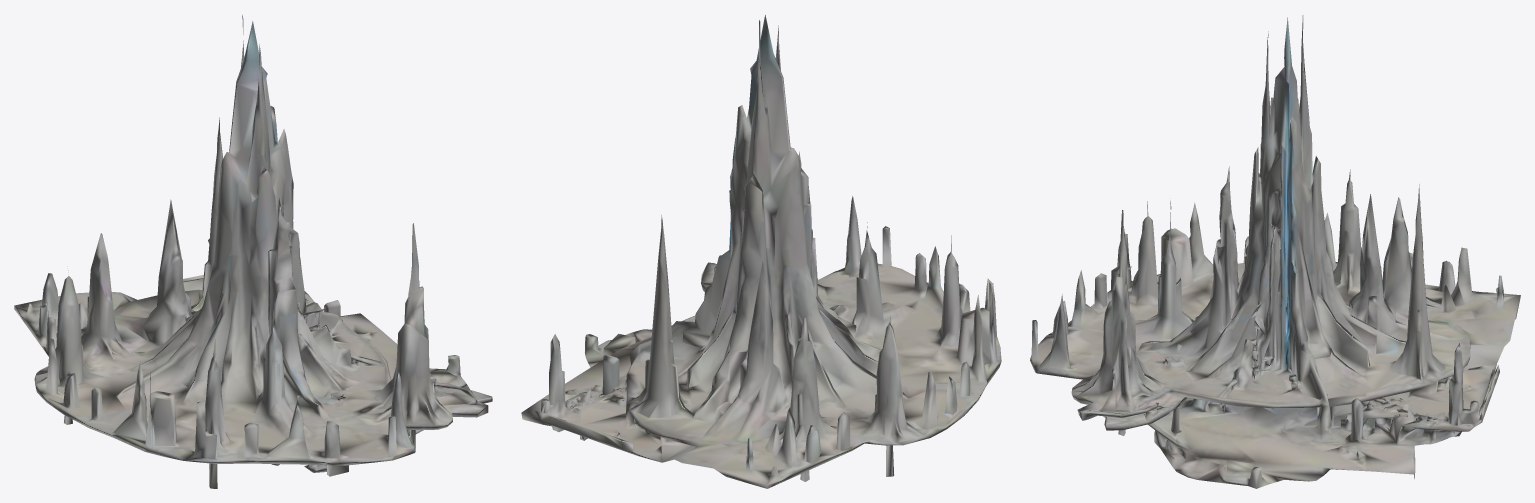
Rendered from tower.glb.
The picture shows the model from 3 angles, left to right: view 1: azimuth 30°, elevation 25°; view 2: azimuth 150°, elevation 25°; view 3: azimuth 270°, elevation 25°; orthographic projection. The views are drawn at different scales.
Visible parts, largest first — view 1: tripo_node_3f39ff8a-48a8-406a-81cb-aabc02b1392a; view 2: tripo_node_3f39ff8a-48a8-406a-81cb-aabc02b1392a; view 3: tripo_node_3f39ff8a-48a8-406a-81cb-aabc02b1392a.
Boxes of the visible parts, <box> form: tripo_node_3f39ff8a-48a8-406a-81cb-aabc02b1392a: <box>14,15,492,488</box>; tripo_node_3f39ff8a-48a8-406a-81cb-aabc02b1392a: <box>521,15,1001,488</box>; tripo_node_3f39ff8a-48a8-406a-81cb-aabc02b1392a: <box>1030,15,1520,488</box>.
Bounding box in the file's own units: 1.02 × 0.9963 × 1.15.
Materials: 1 (1 with a texture image).
